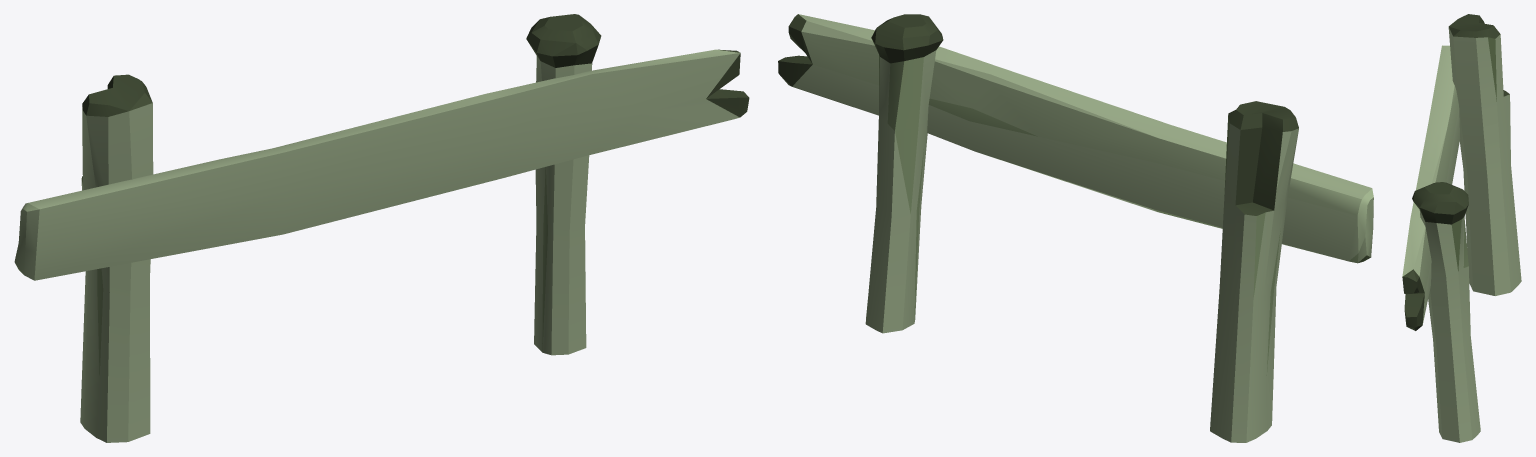
File: EA_Fence_01b.glb
The picture shows the model from 3 angles, left to right: view 1: azimuth 30°, elevation 25°; view 2: azimuth 150°, elevation 25°; view 3: azimuth 270°, elevation 25°; orthographic projection. The views are drawn at different scales.
Parts seen in each view (by area): view 1: EA_Fence_01b; view 2: EA_Fence_01b; view 3: EA_Fence_01b.
Part boxes in pixels (x1,y1,x2,y2): EA_Fence_01b: [14, 14, 749, 442]; EA_Fence_01b: [778, 14, 1373, 442]; EA_Fence_01b: [1402, 14, 1521, 442].
Bounding box in the file's own units: 1.93 × 0.9394 × 0.3928.
1 material, 1 textured.
